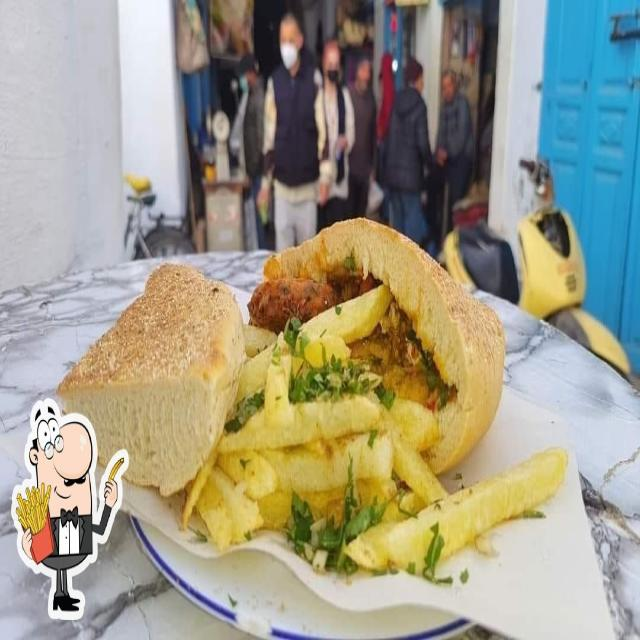Sandwitch tounsi: (257, 218, 514, 478)
